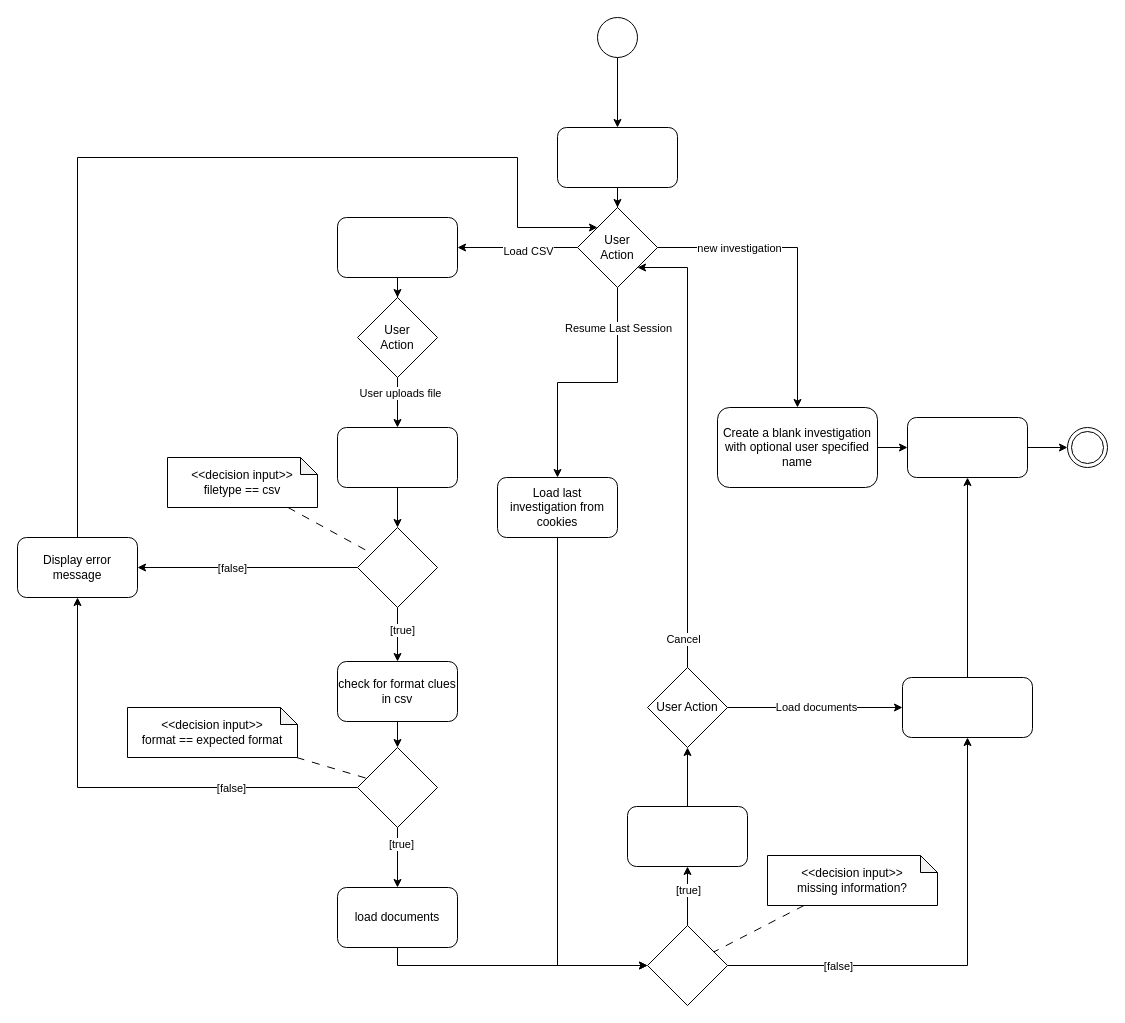
This 1125x1023 diagram has some shape labels left out. The centre of each missing label's shape, as x and y in pixels:
"Check the filetype" belongs at [397,457].
"Display problems" belongs at [687,836].
"Load documents into document objects" belongs at [967,707].
"Load investigation page" belongs at [967,447].
"Open TxnWeave" belongs at [617,157].
"Open user file explorer" belongs at [397,247].
